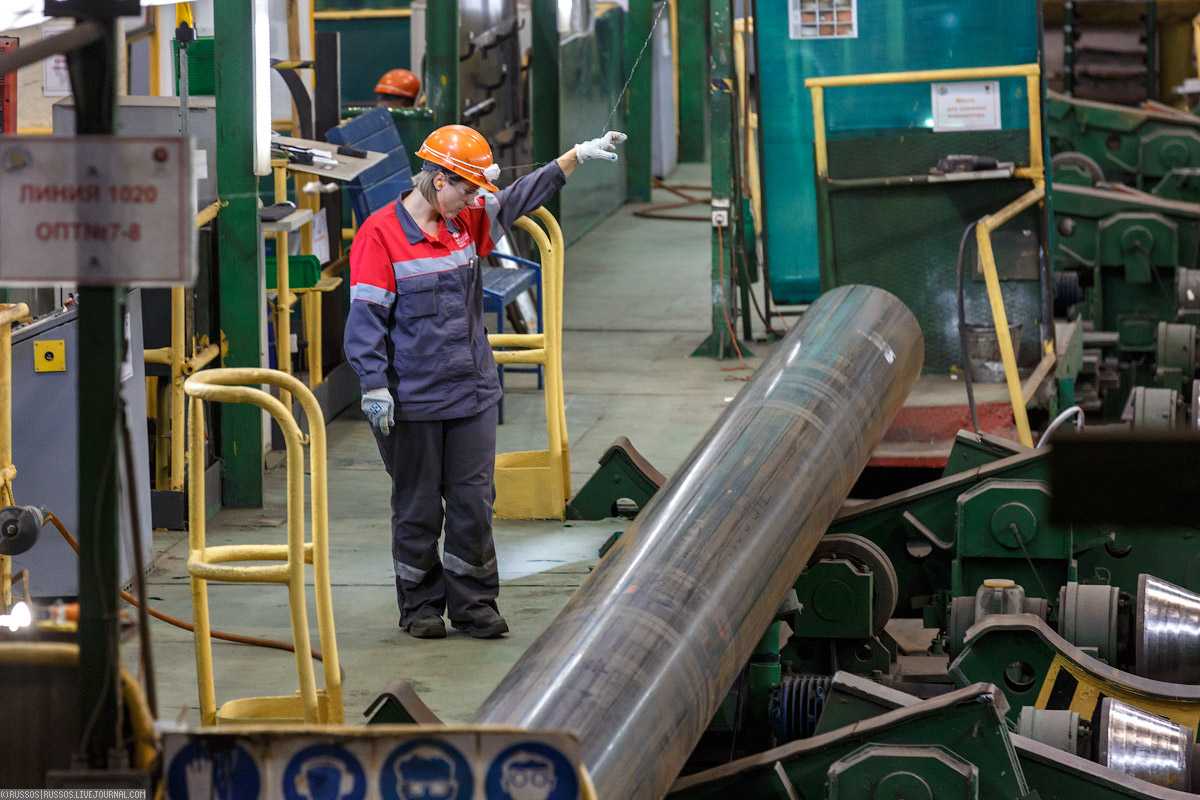person: (343, 125, 629, 640), (376, 70, 422, 110)
